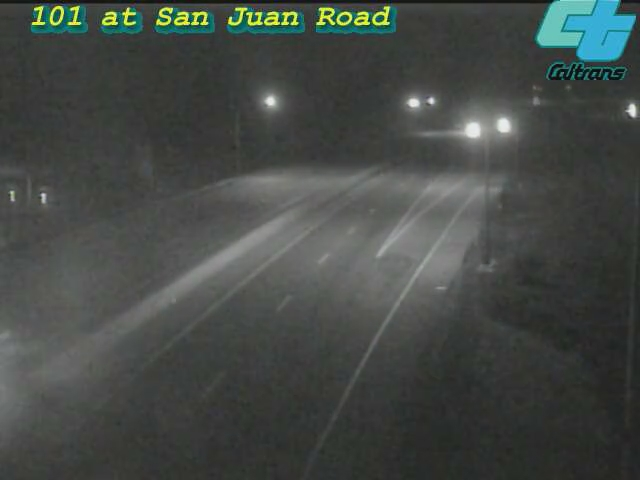vehicle: (1, 291, 69, 401), (447, 105, 497, 155), (477, 101, 527, 151), (610, 86, 640, 136)
